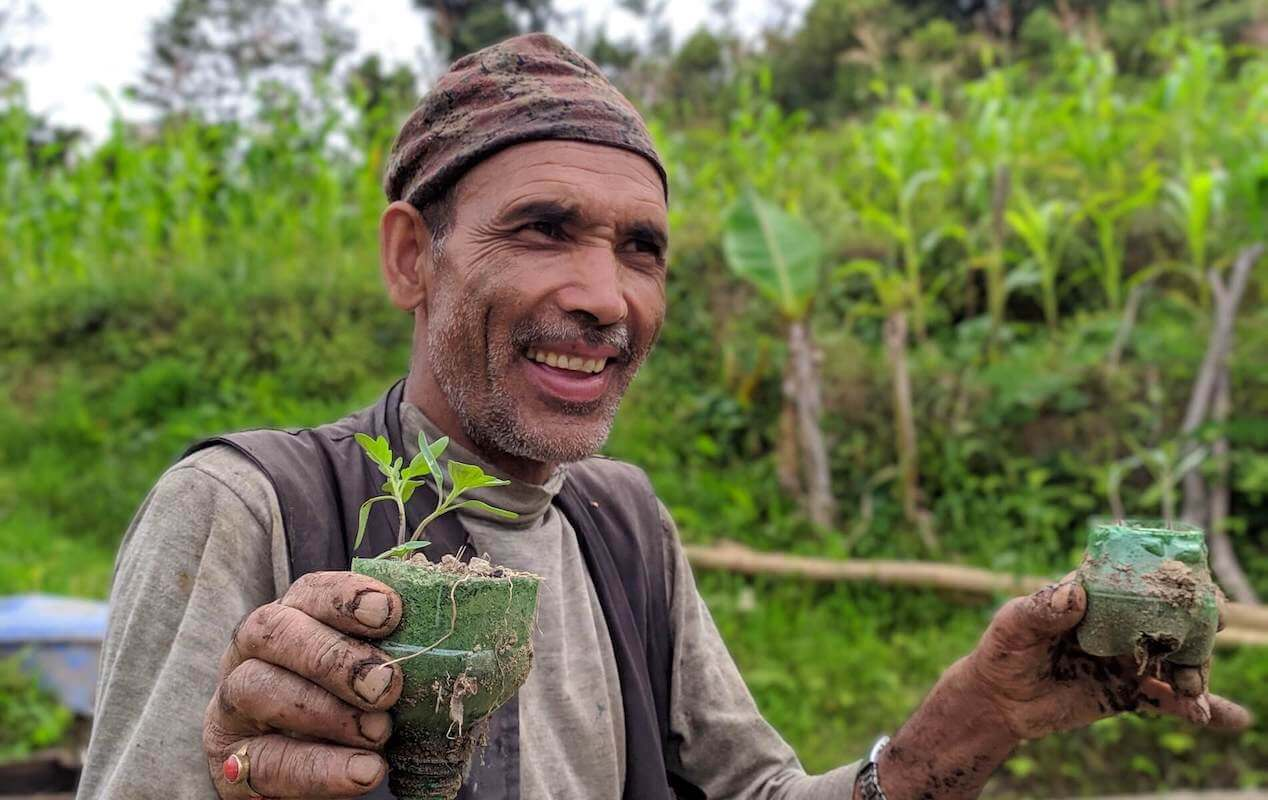human: (72, 47, 1217, 800)
